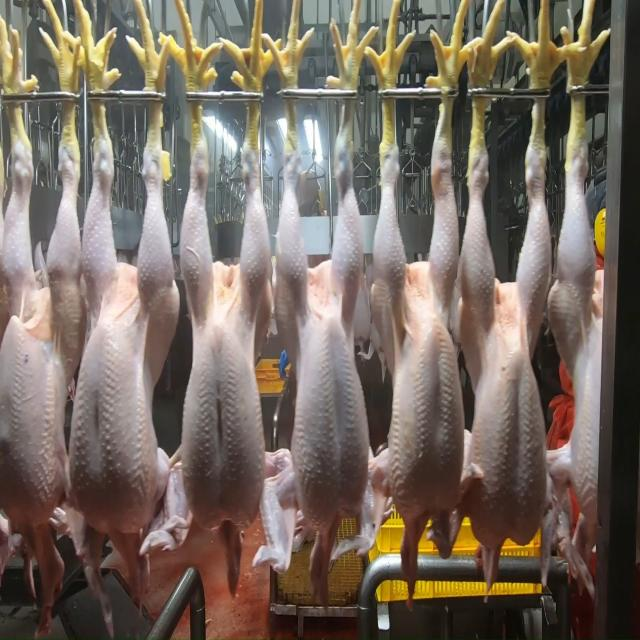chicken: (67, 136, 180, 537), (171, 115, 272, 528), (456, 149, 554, 554), (271, 142, 367, 540), (0, 120, 86, 525), (370, 153, 457, 531), (557, 149, 618, 535)
